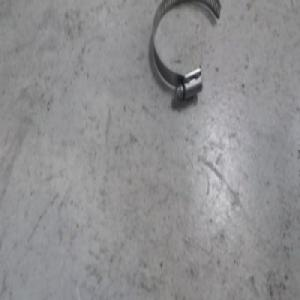AdjustableClamp: (151, 1, 221, 100)
